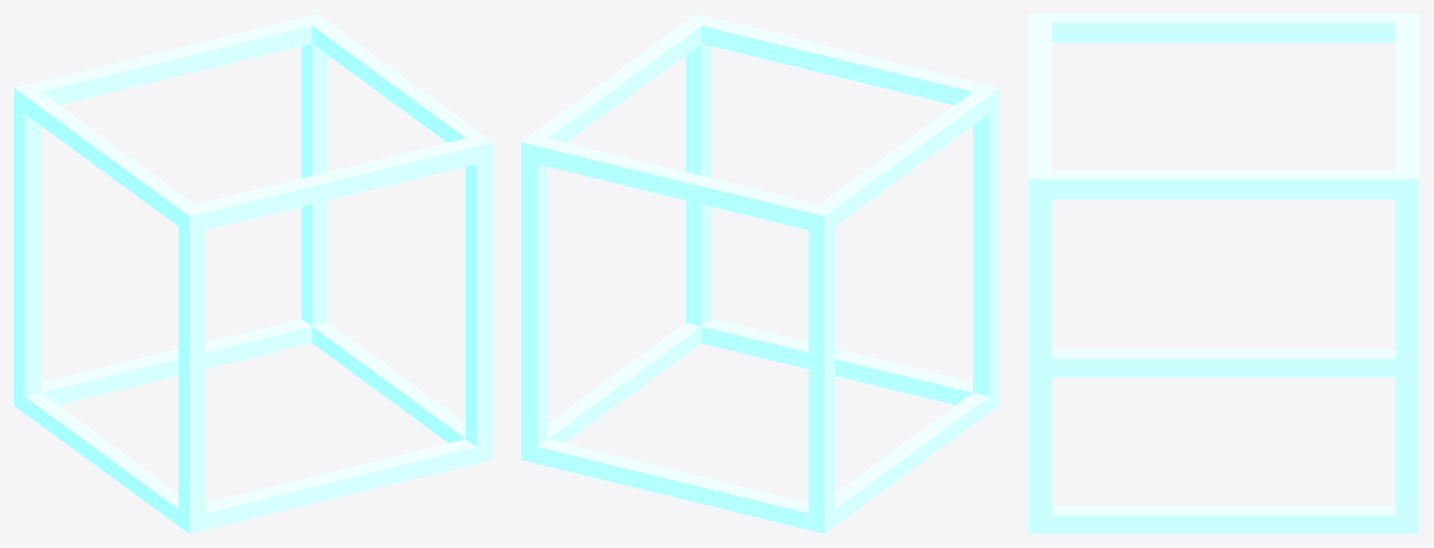
The model's file is boneCube.fbx.
The picture shows the model from 3 angles, left to right: view 1: azimuth 30°, elevation 25°; view 2: azimuth 150°, elevation 25°; view 3: azimuth 270°, elevation 25°; orthographic projection. The views are drawn at different scales.
Visible parts, largest first — view 1: Cube; view 2: Cube; view 3: Cube.
Boxes of the visible parts, <box> form: Cube: <box>14,14,492,533</box>; Cube: <box>521,14,999,533</box>; Cube: <box>1028,14,1419,533</box>.
Size of the model in its own units: 2 by 2 by 2.
